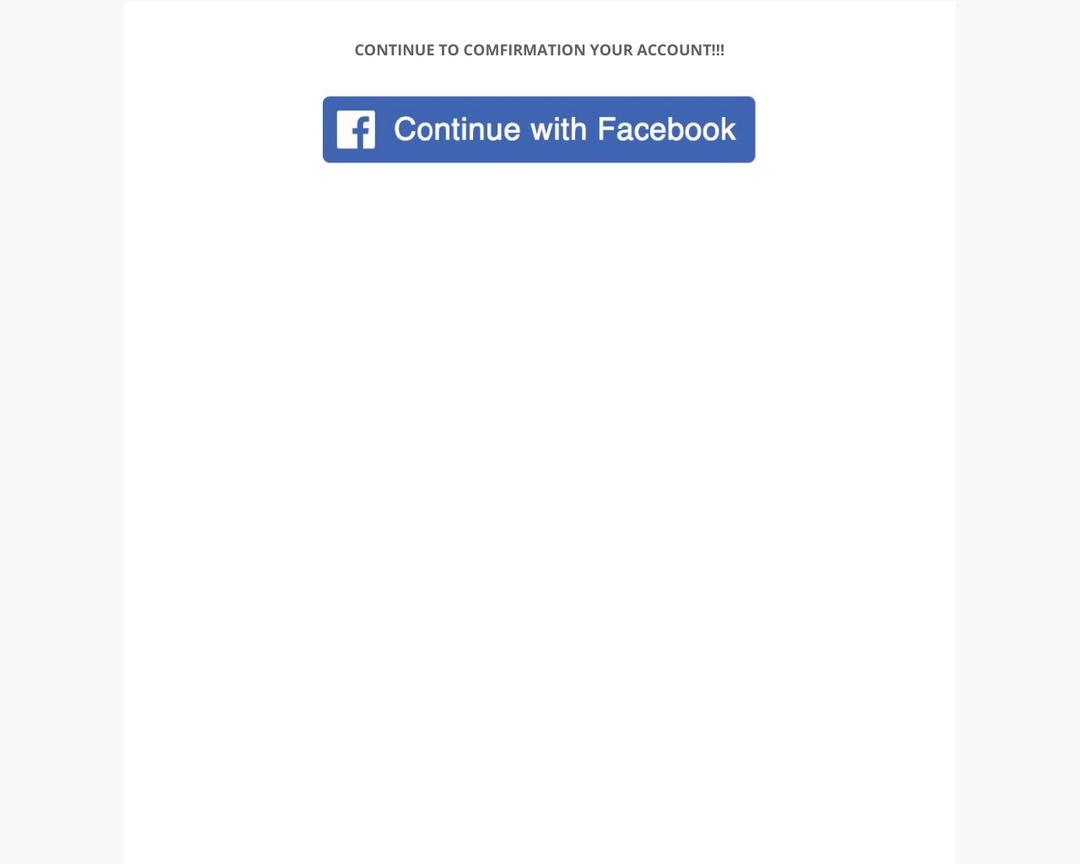Facebook: (595, 113, 747, 148), (331, 100, 382, 156)
